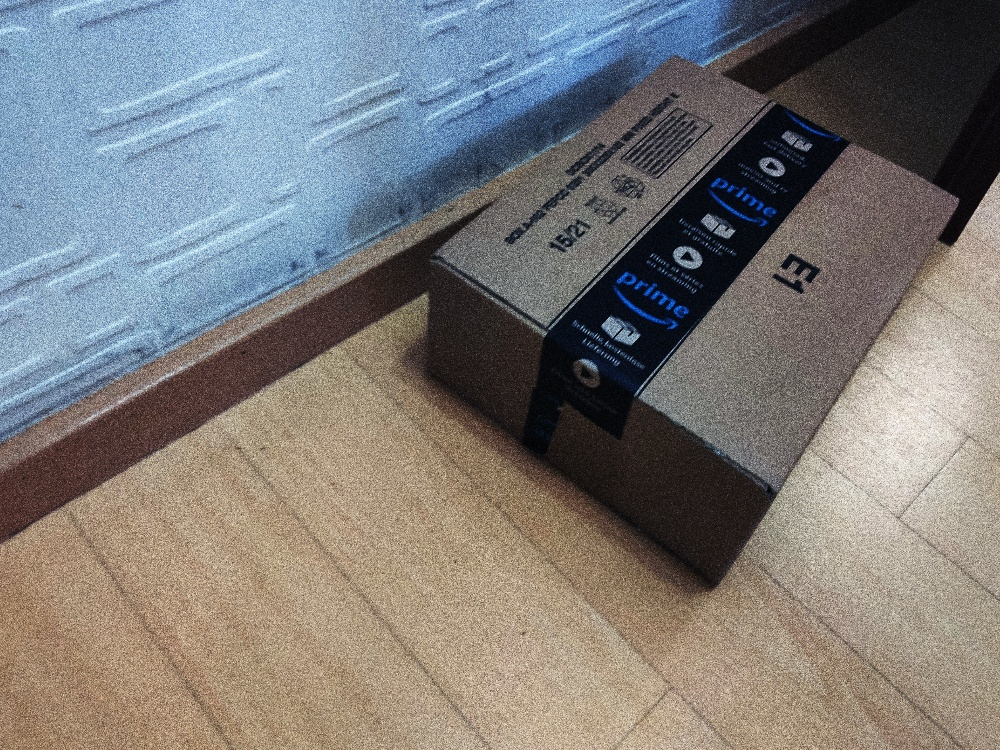good-parcel: (416, 39, 971, 600)
